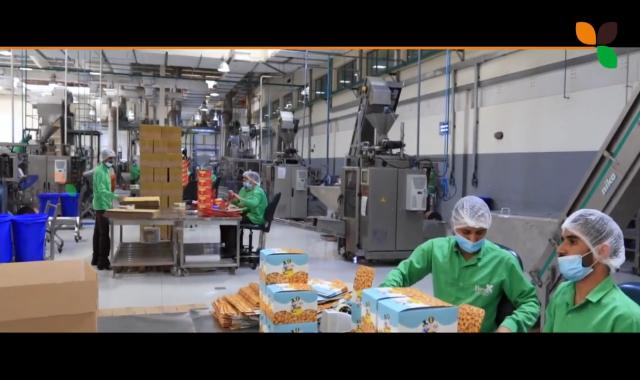hairnet: (562, 207, 626, 281), (450, 198, 490, 253), (243, 171, 262, 193), (100, 148, 114, 166)
